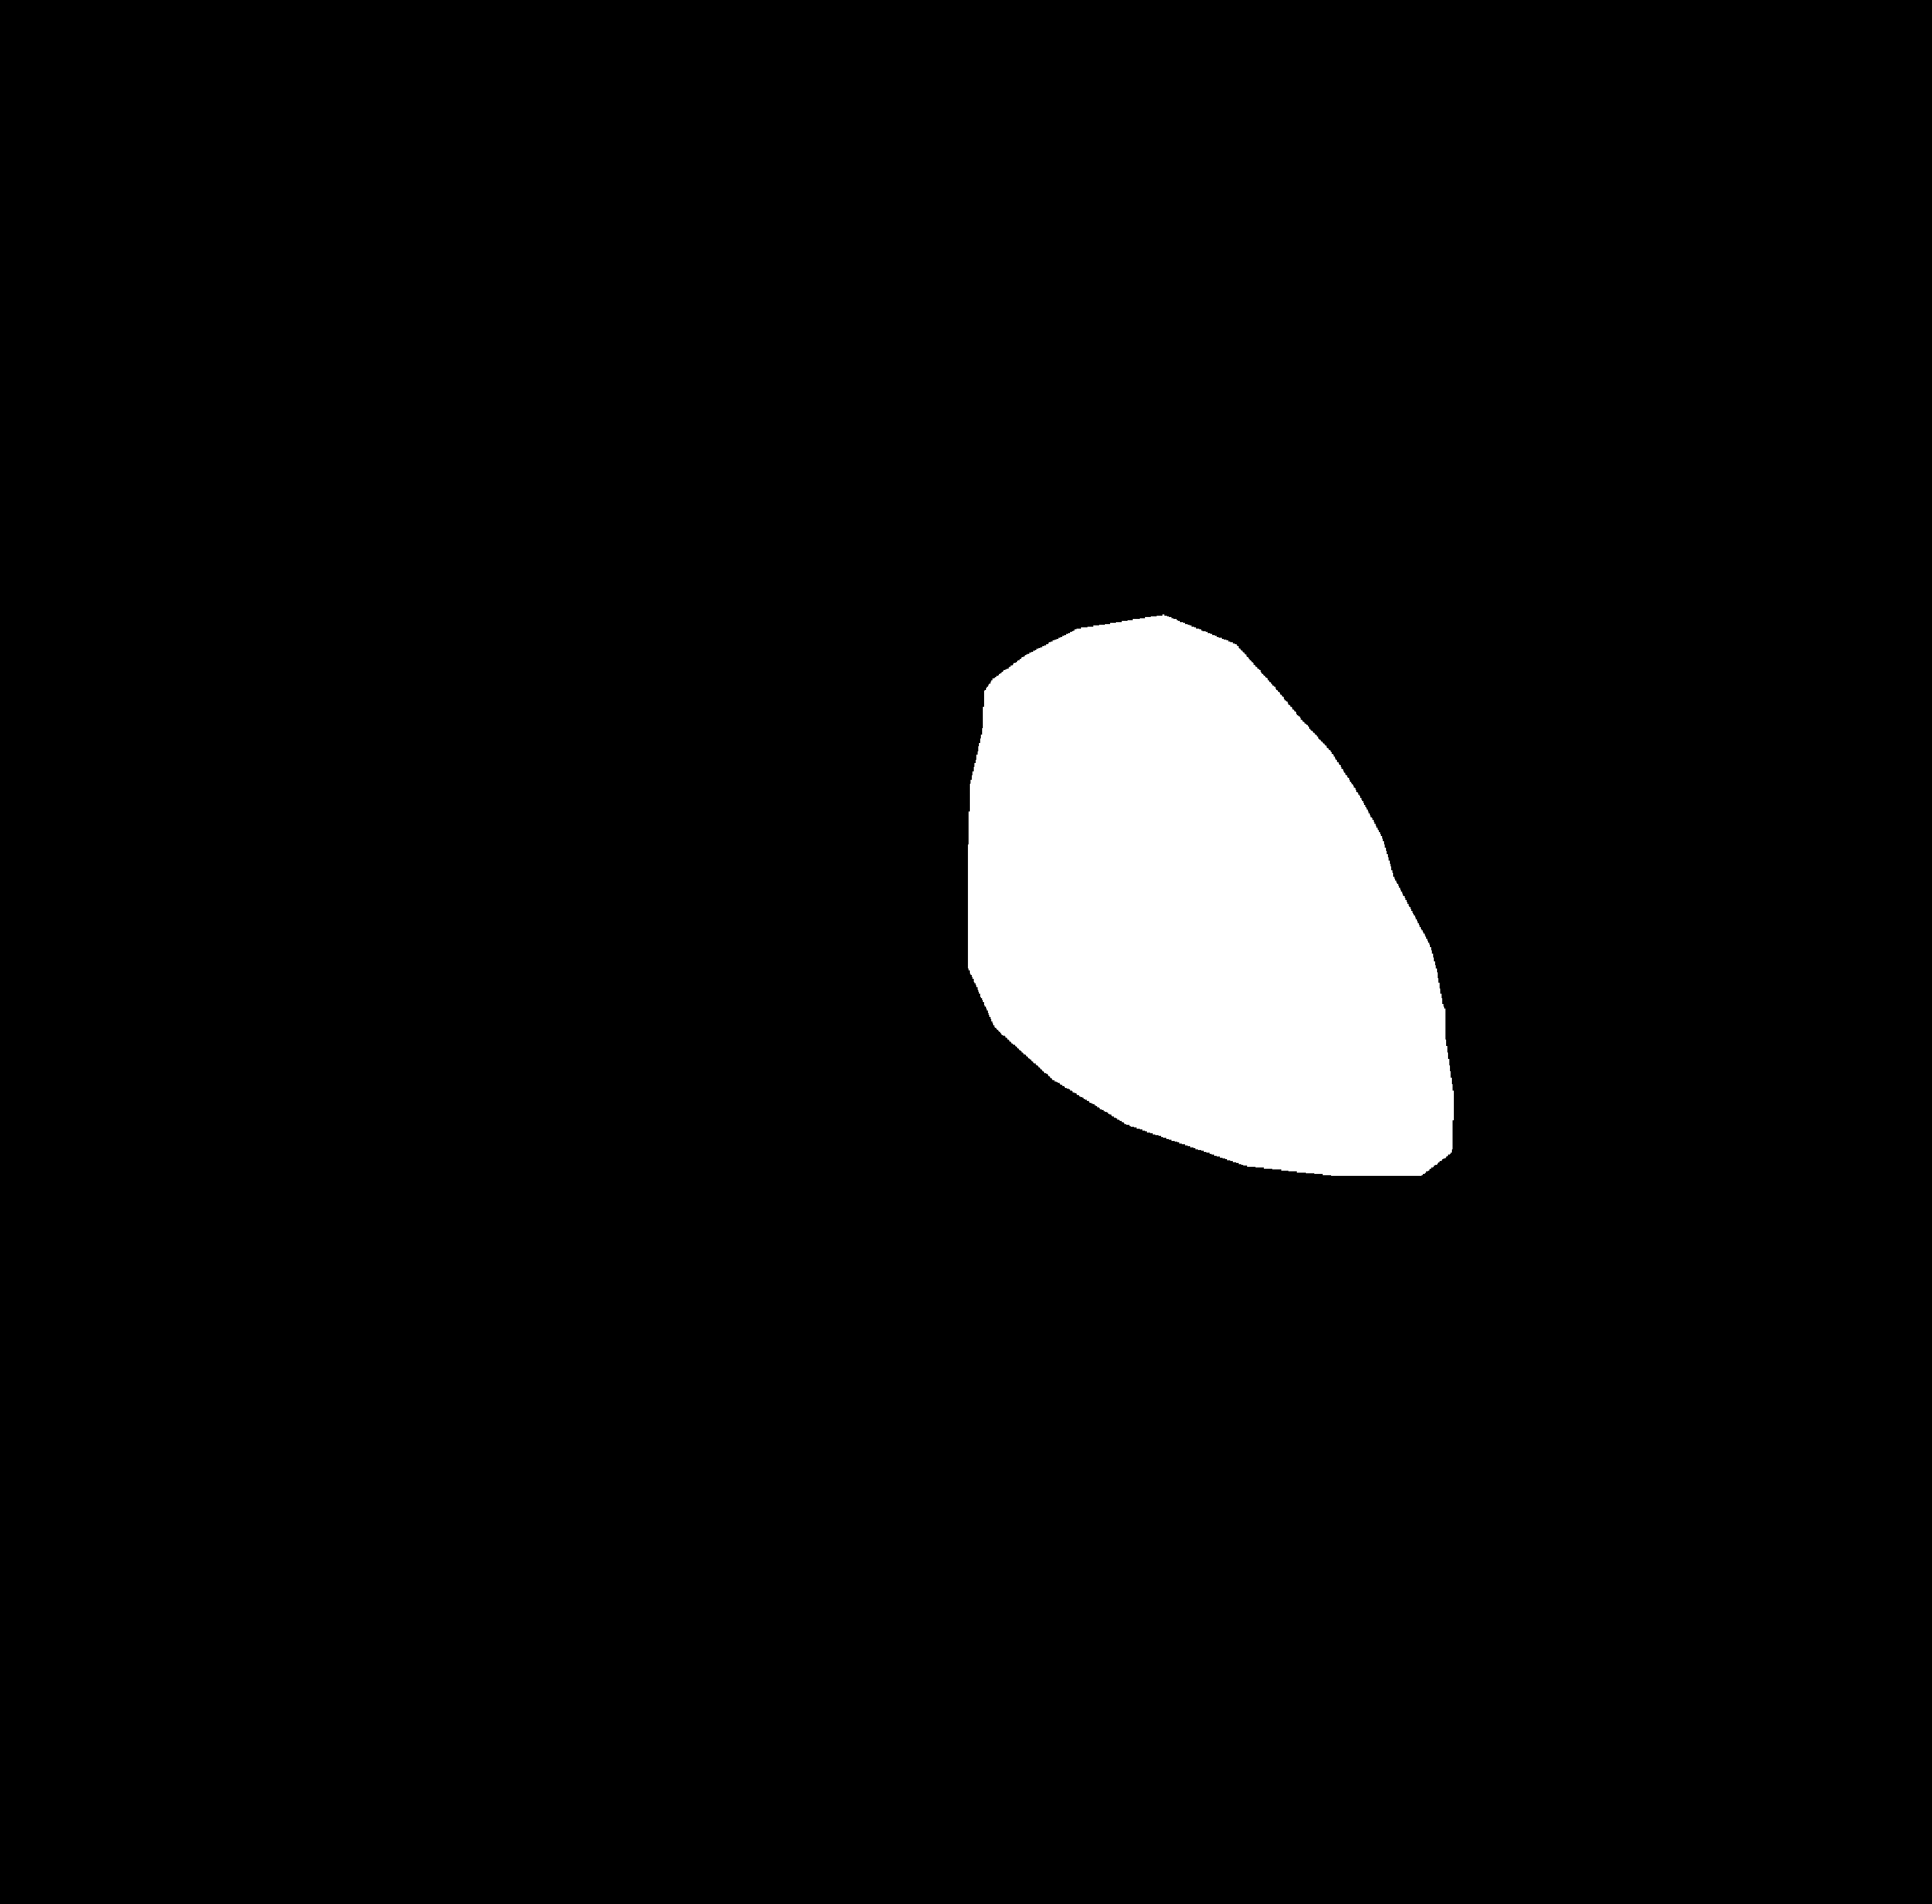heart: (968, 706, 1446, 1221)
left_lung: (492, 91, 1008, 1306)
right_lung: (1109, 63, 1725, 1302)
